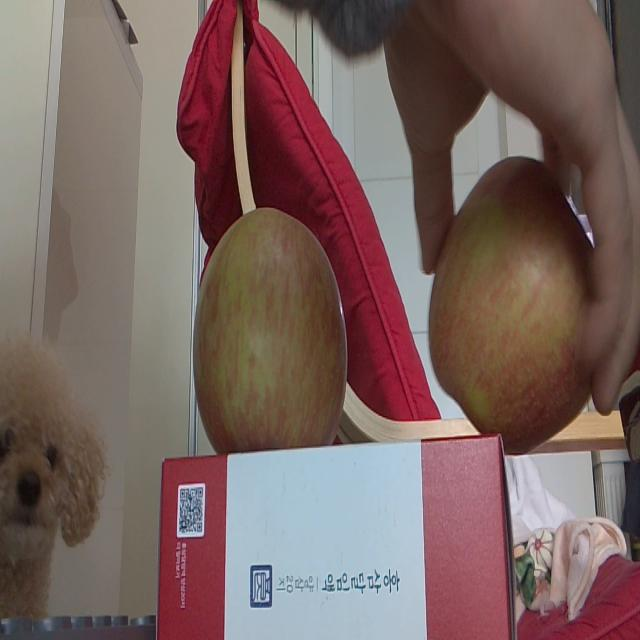apple: (432, 147, 601, 436), (190, 202, 348, 450)
